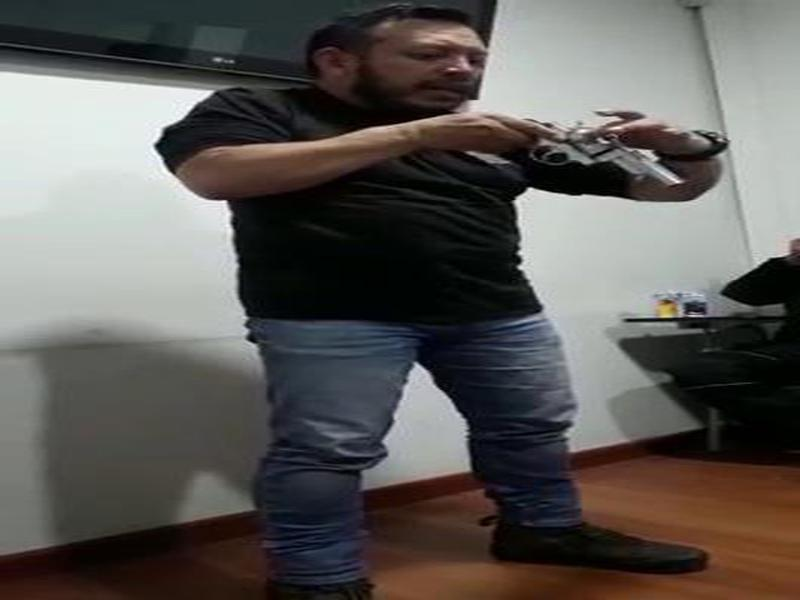Revolver: (508, 96, 701, 227)
